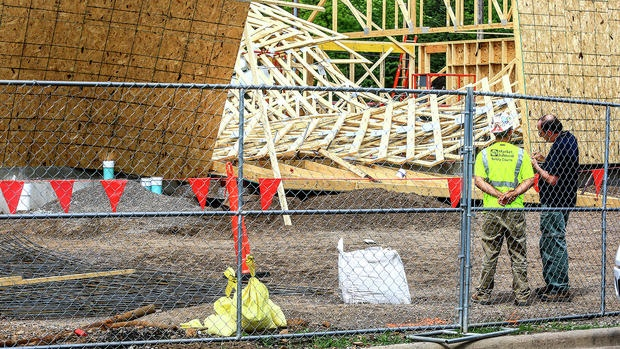none: (536, 114, 562, 142)
white: (489, 113, 513, 141)
